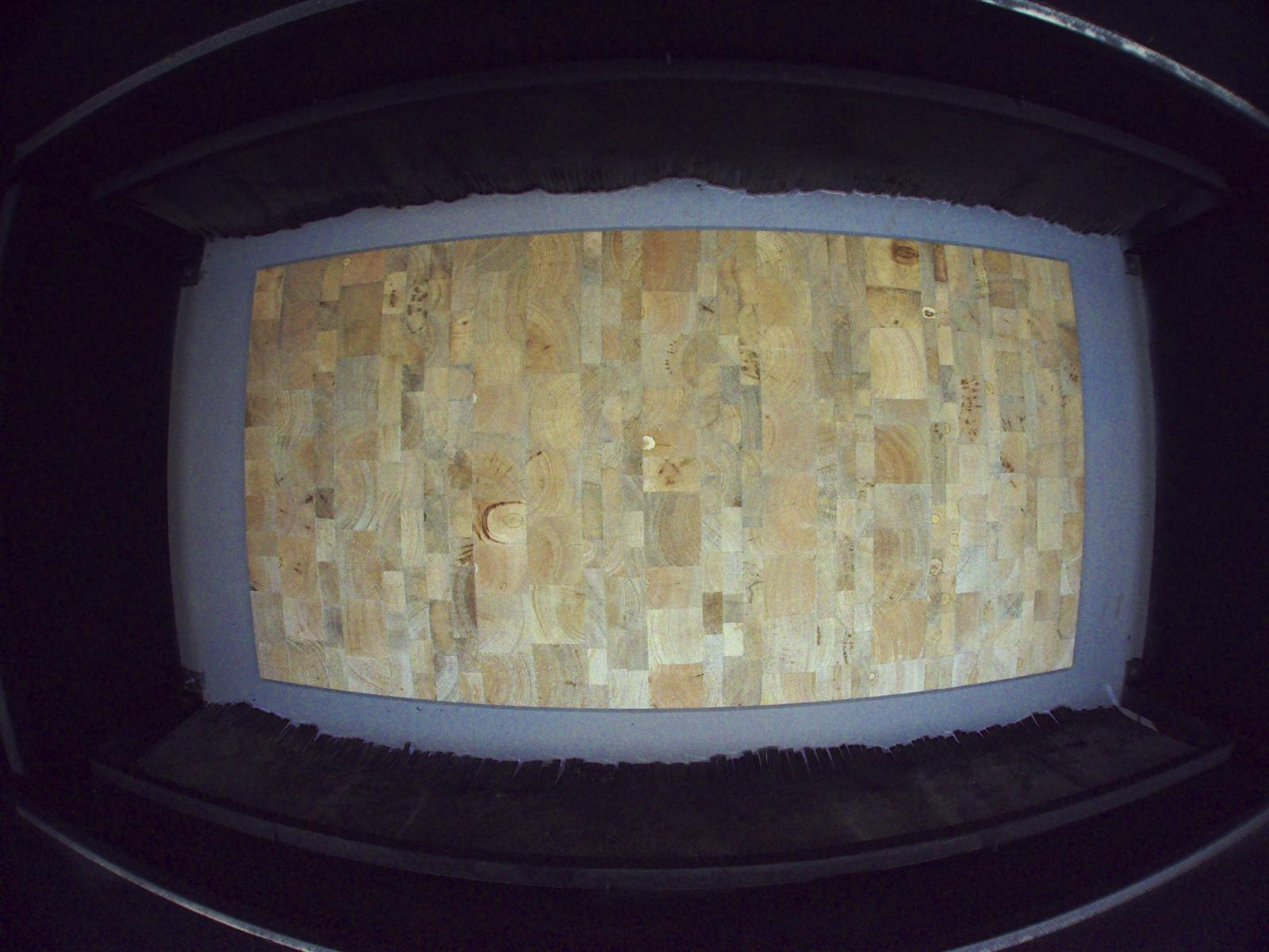nudillo: (480, 499, 527, 545), (890, 238, 920, 268)
